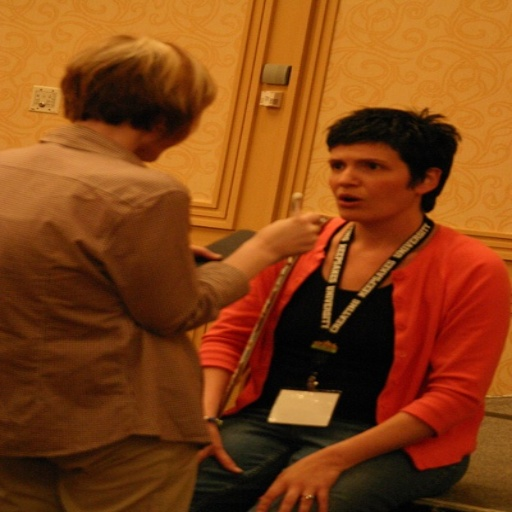hand: (268, 430, 387, 506), (245, 208, 325, 261), (193, 420, 248, 476), (186, 243, 224, 261)
